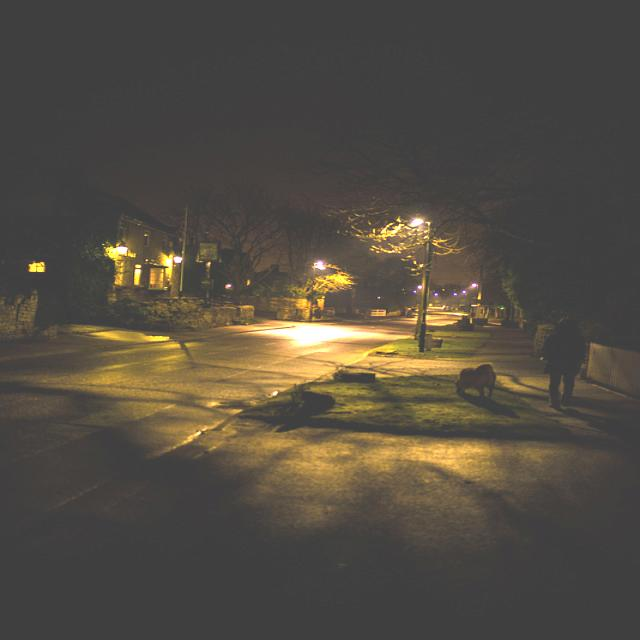Dog: (248, 385, 384, 448), (424, 337, 524, 416), (337, 356, 389, 394)
